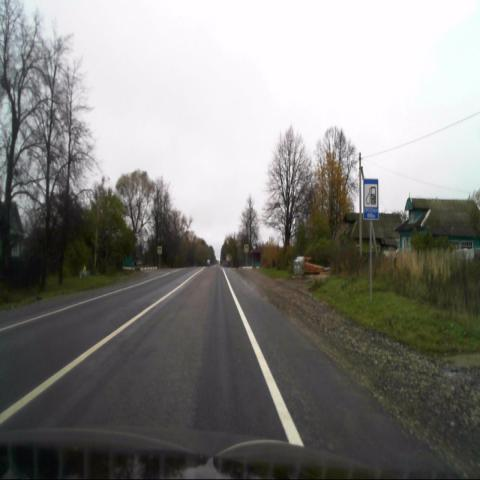7_3: (364, 180, 379, 220)
